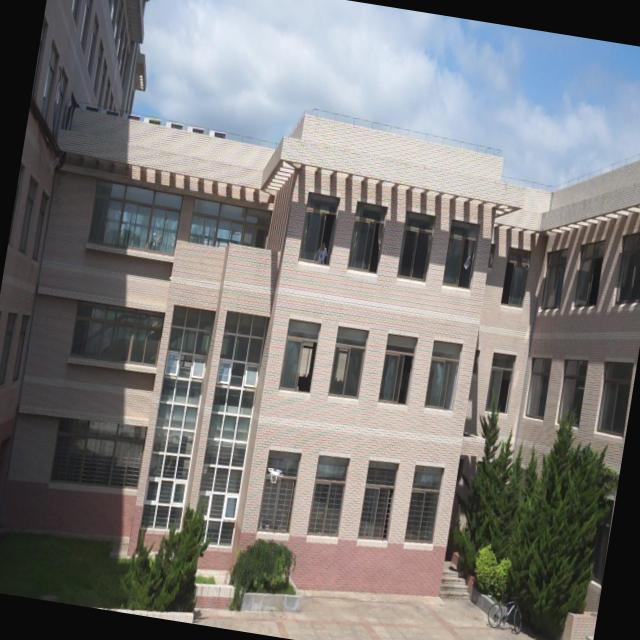drone: (266, 461, 286, 487)
